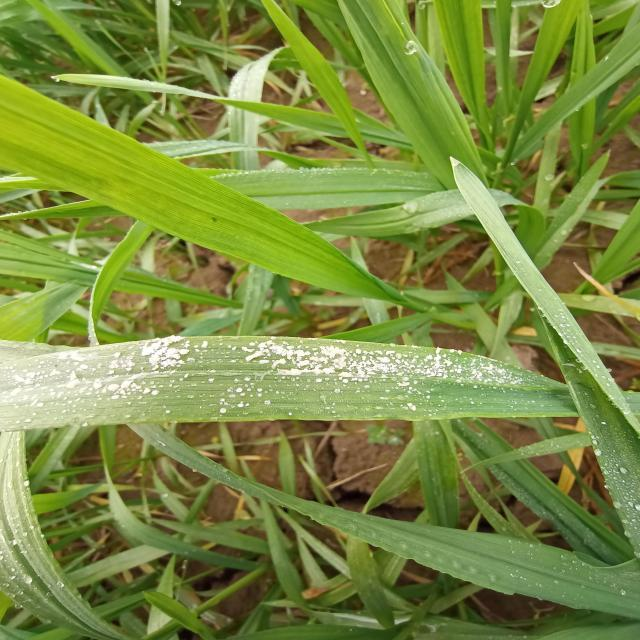Powdery Mildew: (5, 338, 511, 429)
